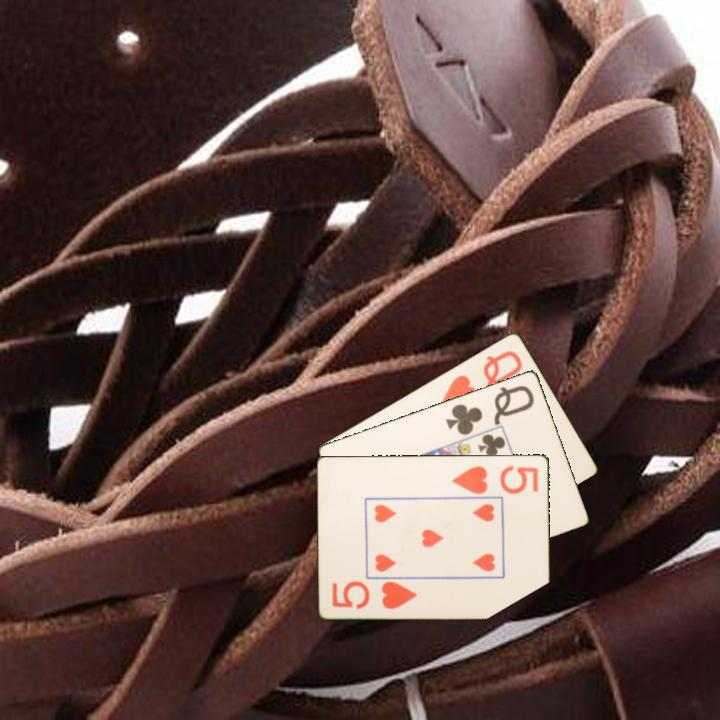5h: (449, 461, 541, 496), (329, 577, 420, 612)
Qc: (442, 381, 537, 438)
Qh: (438, 346, 525, 407)
